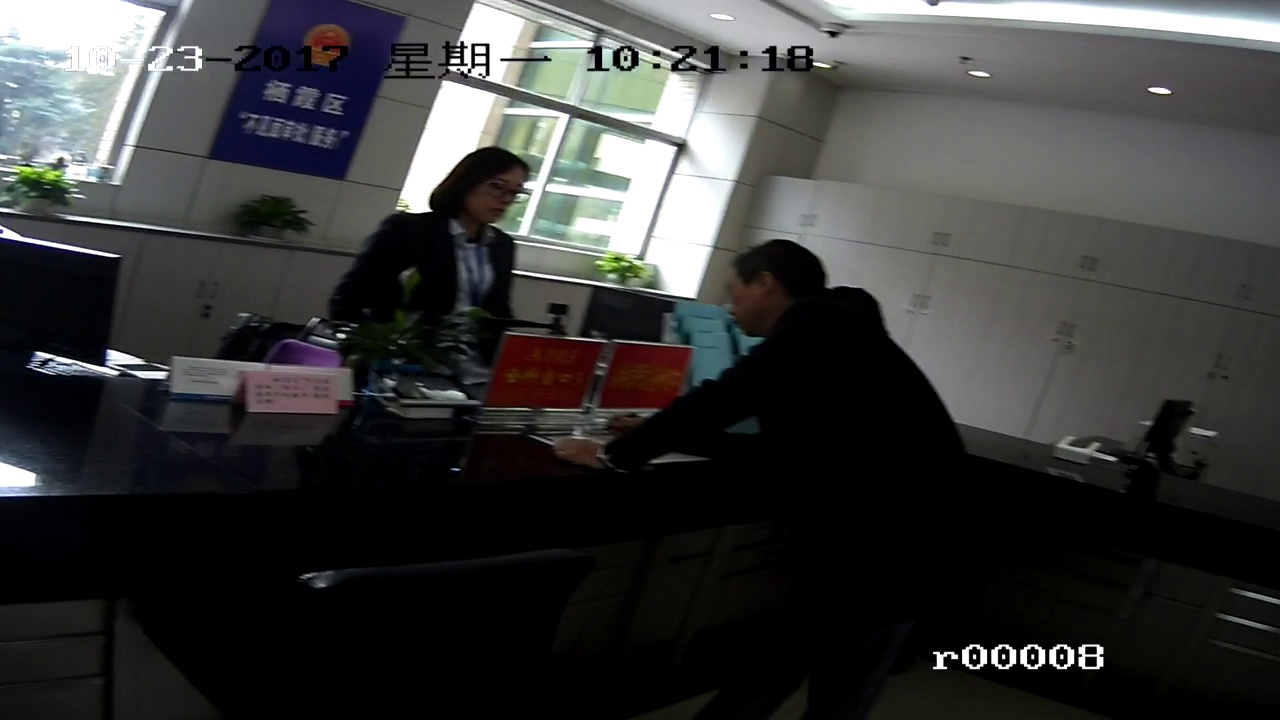billboard: (262, 1, 359, 167), (503, 337, 598, 412), (616, 342, 685, 412)
person: (724, 225, 922, 504), (396, 152, 538, 297)
pot: (358, 316, 435, 375), (247, 184, 306, 246), (20, 160, 73, 217), (599, 251, 648, 289)
